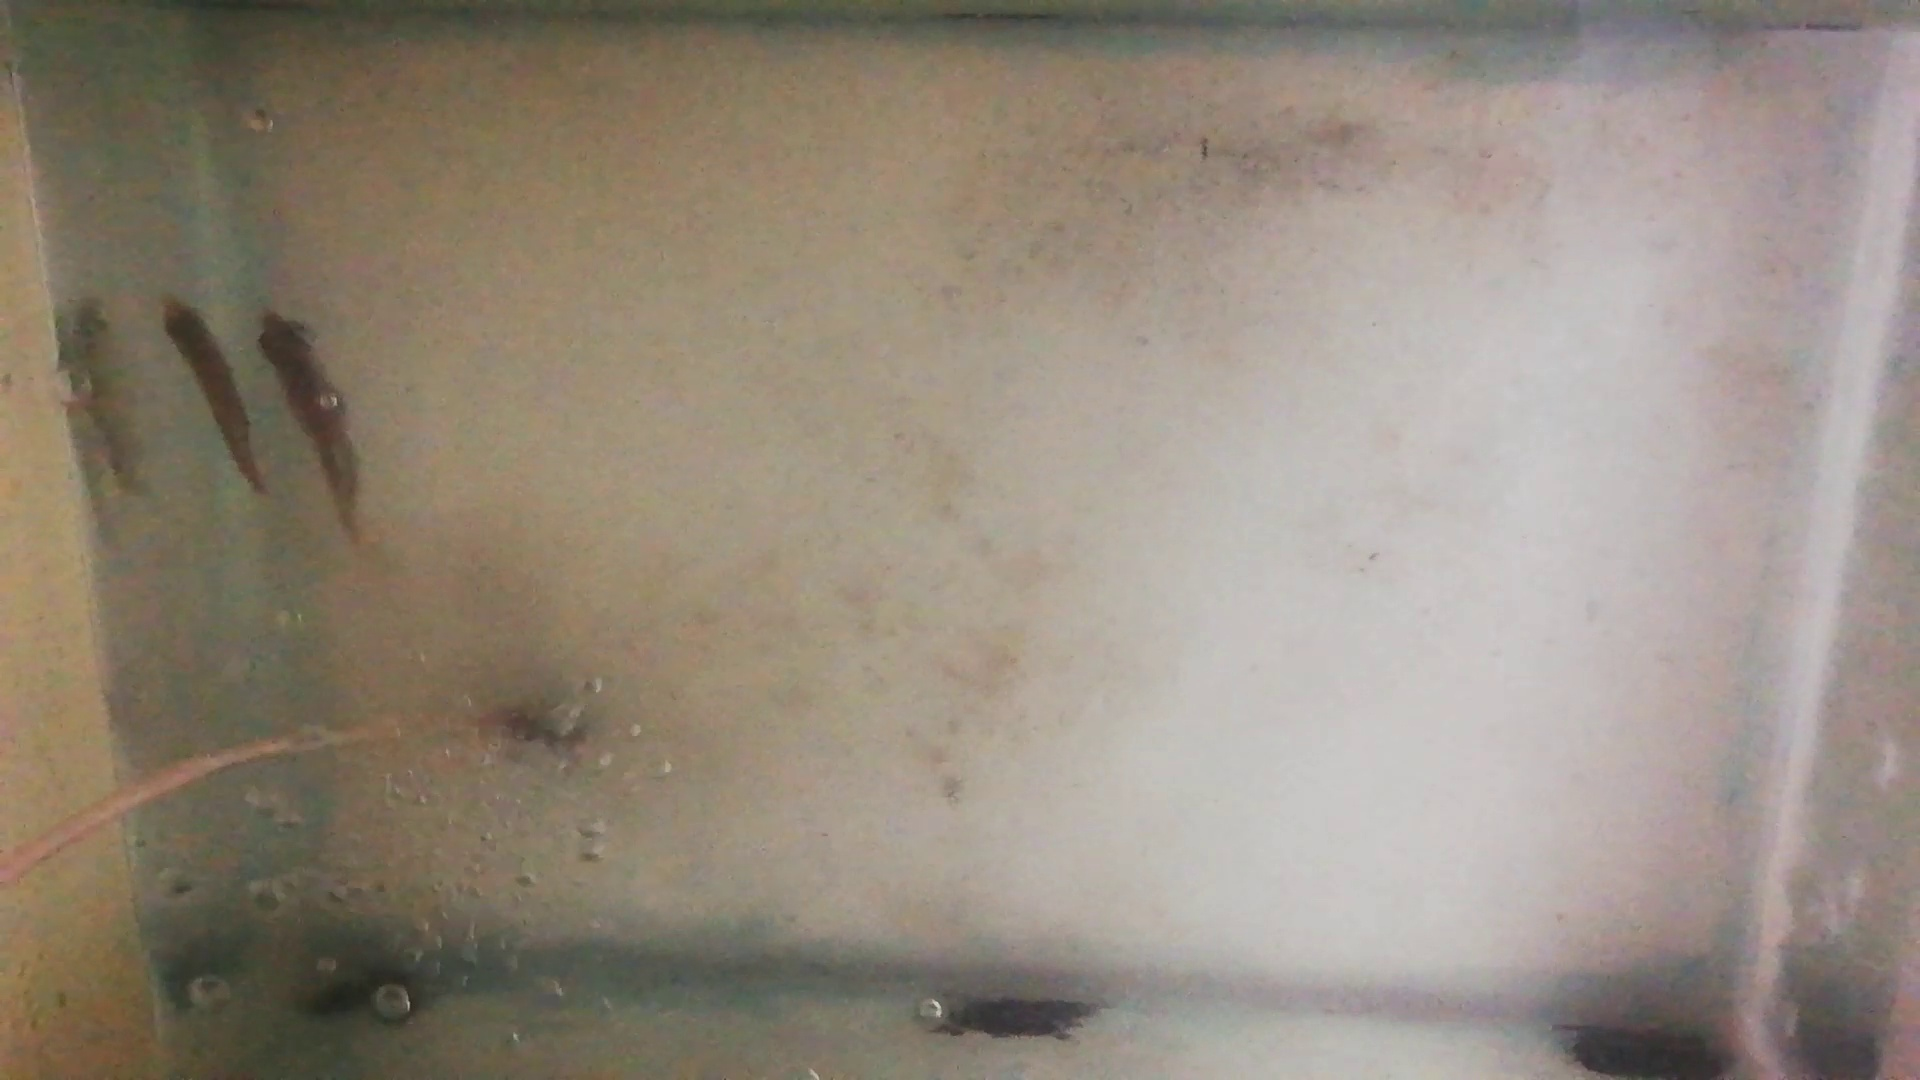fish: (255, 305, 364, 542), (161, 294, 262, 492)
